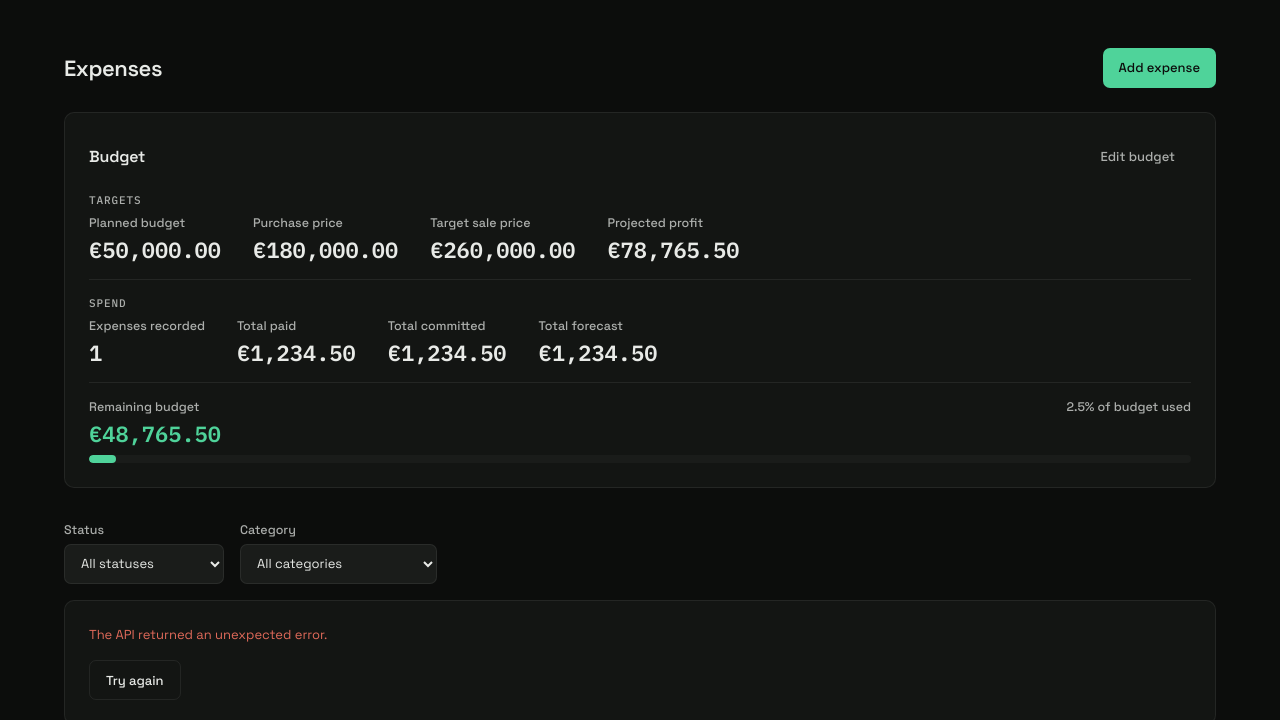
Test case: ExpensesScreen › recovers from a failed list without a page reload, and never shows the raw backend detail
This screenshot has width=1280, height=720.
Expected: the text "The API returned an unexpected error." is shown, [89,626,327,643]
Click the button "Try again" at [135, 680], box [89,660,180,700]
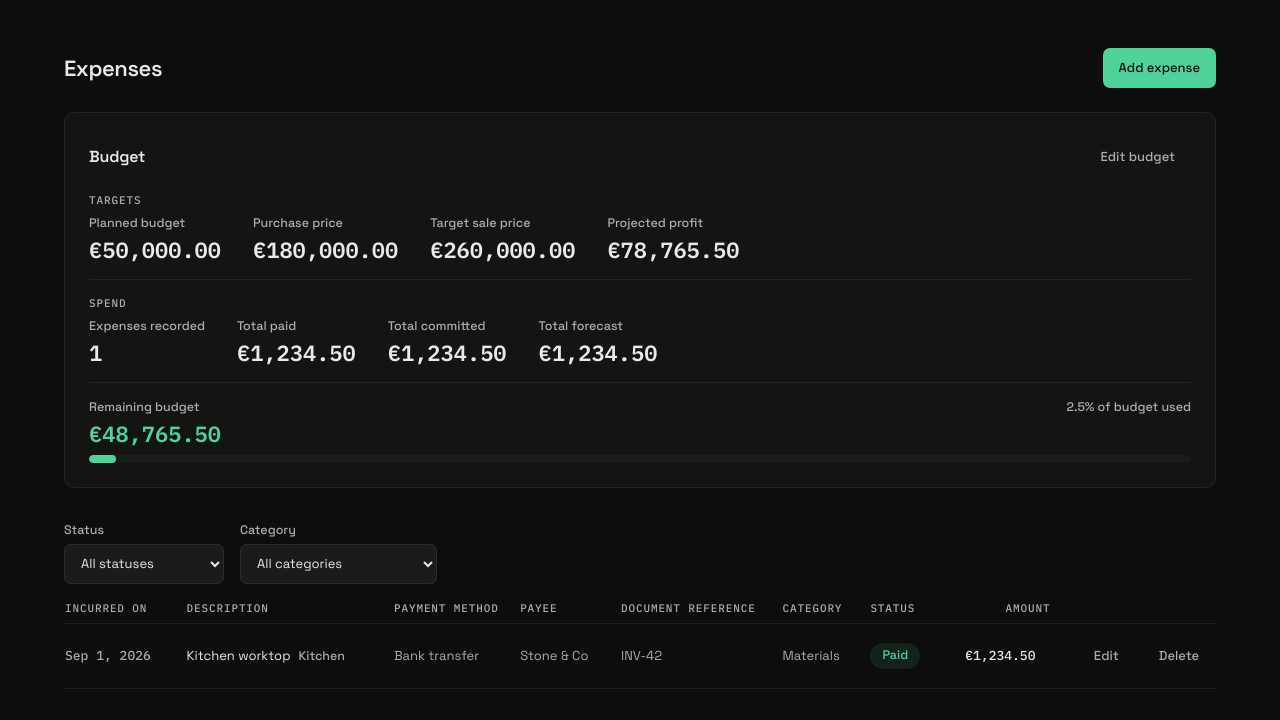
Expected: the text "Kitchen worktop" is shown, [186,647,290,664]
Expected: the text "The API returned an unexpected error." is gone
